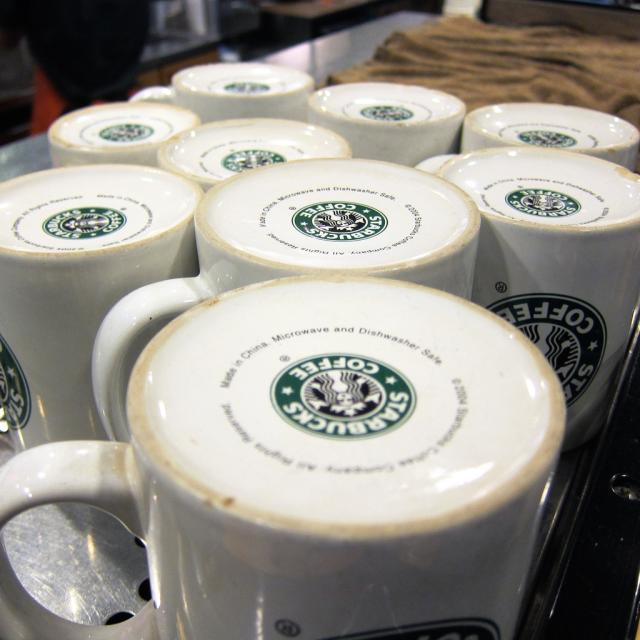starbucks: (487, 294, 609, 409), (271, 353, 418, 441), (293, 202, 387, 242), (45, 207, 126, 239), (505, 190, 582, 218), (225, 151, 286, 173), (101, 124, 158, 144), (519, 132, 577, 150), (362, 106, 416, 125), (224, 83, 272, 95)
